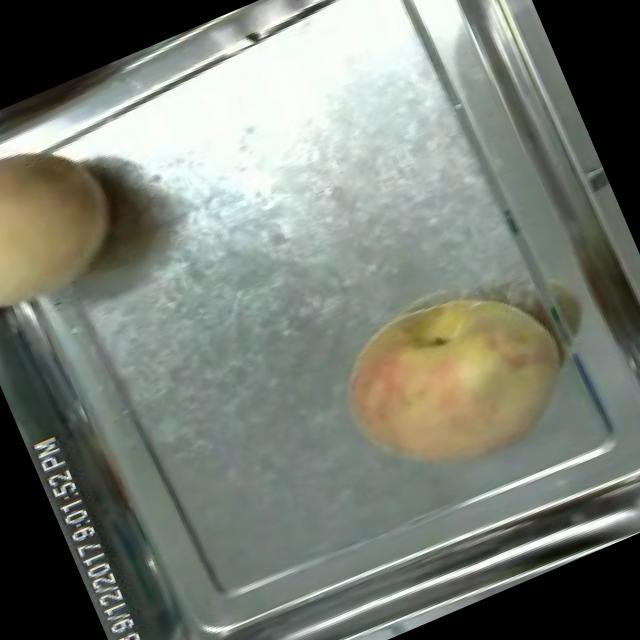Fruit: (314, 255, 594, 510), (0, 102, 149, 338)
